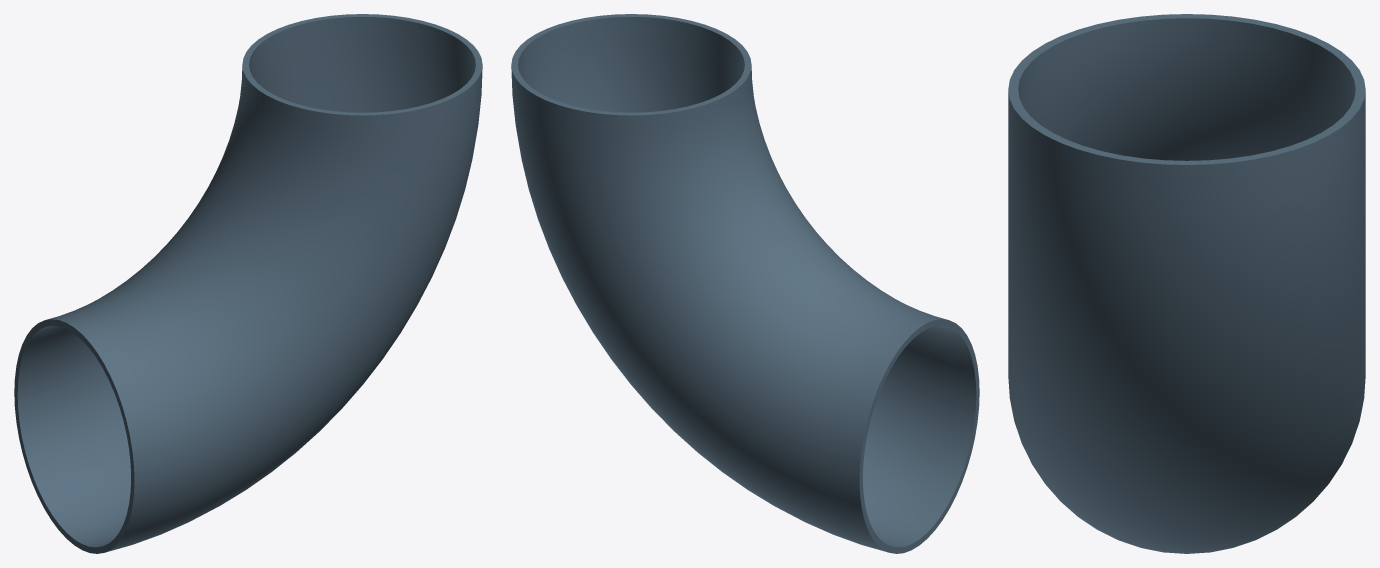
The model's file is otvod-90-325x9-R450.glb.
The picture shows the model from 3 angles, left to right: view 1: azimuth 30°, elevation 25°; view 2: azimuth 150°, elevation 25°; view 3: azimuth 270°, elevation 25°; orthographic projection. The views are drawn at different scales.
Visible parts, largest first — view 1: Open CASCADE STEP translator 7.9 82; view 2: Open CASCADE STEP translator 7.9 82; view 3: Open CASCADE STEP translator 7.9 82.
Boxes of the visible parts, <box> form: Open CASCADE STEP translator 7.9 82: <box>14,14,482,553</box>; Open CASCADE STEP translator 7.9 82: <box>511,14,979,553</box>; Open CASCADE STEP translator 7.9 82: <box>1008,14,1365,553</box>.
Bounding box in the file's own units: 612 × 612 × 325.
